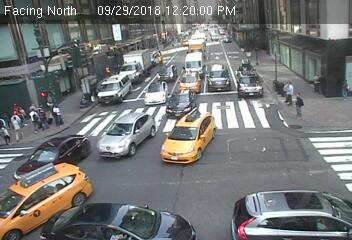car: (1, 165, 95, 236), (38, 199, 200, 239), (231, 187, 351, 240), (160, 106, 218, 166), (14, 133, 88, 180), (97, 110, 156, 161), (100, 73, 133, 101), (168, 86, 198, 114), (141, 80, 169, 106), (209, 62, 232, 92), (184, 50, 207, 80), (239, 74, 264, 100), (180, 68, 205, 94), (157, 60, 178, 82), (236, 56, 258, 76), (188, 40, 208, 52), (208, 29, 220, 41), (223, 34, 233, 41)
